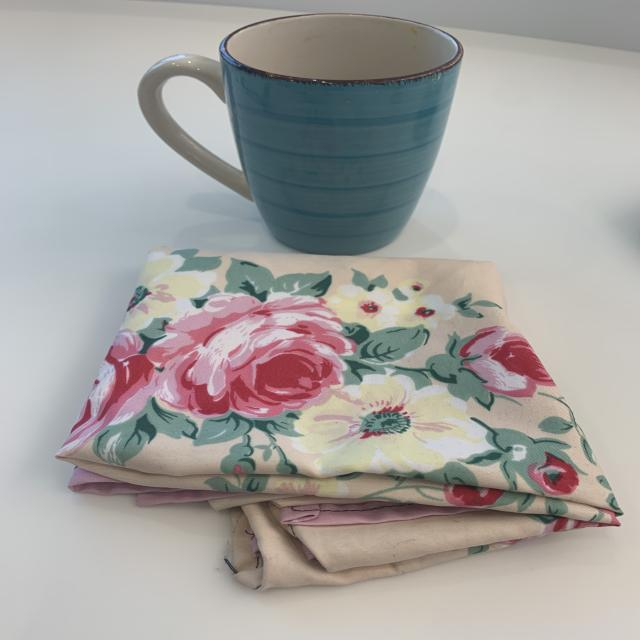Cup: (123, 5, 475, 263)
